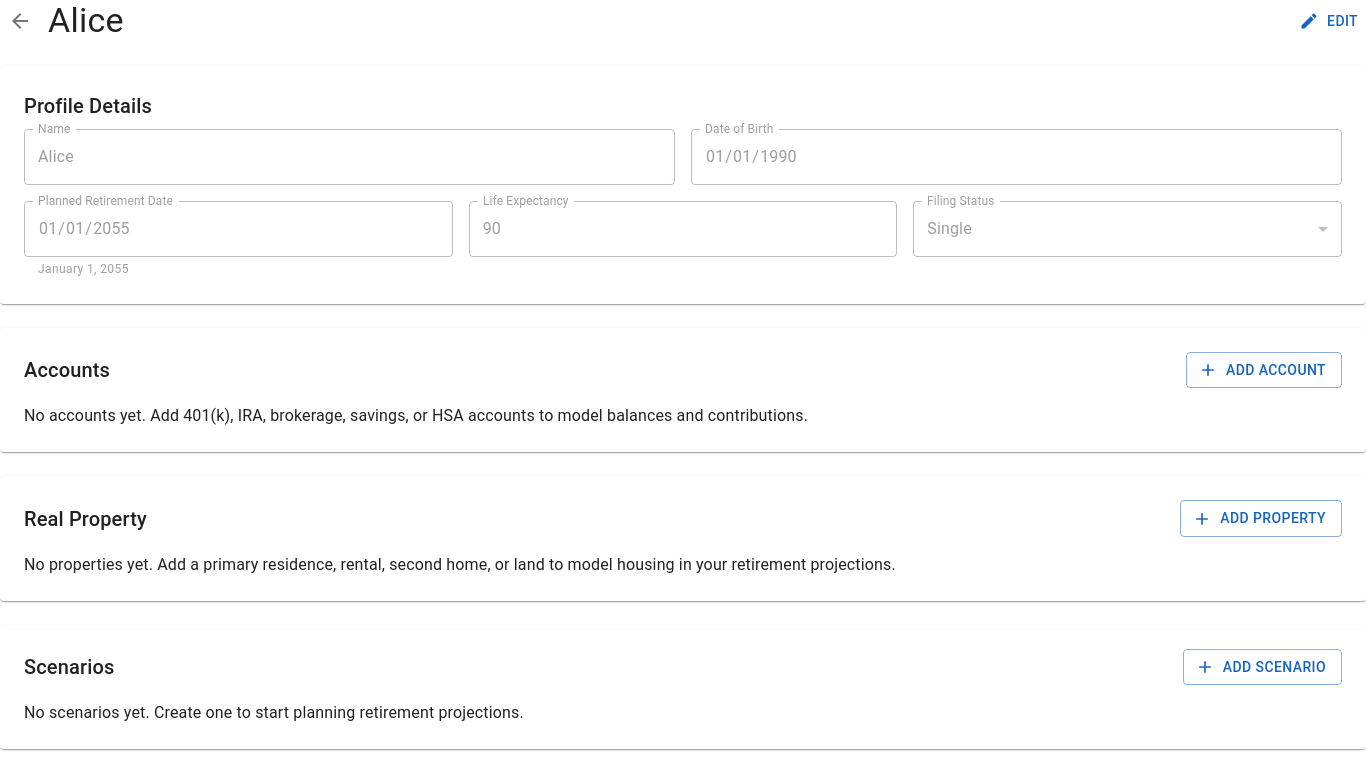
Test case: ProfileDetailPage › shows em-dash for Principal and Interest when there is no mortgage
This screenshot has width=1366, height=768.
What coordinates should you click on to do the following:
click the button "Add Property"
I would click on:
 (1261, 519)
Its box is left=1180, top=500, right=1342, bottom=537.
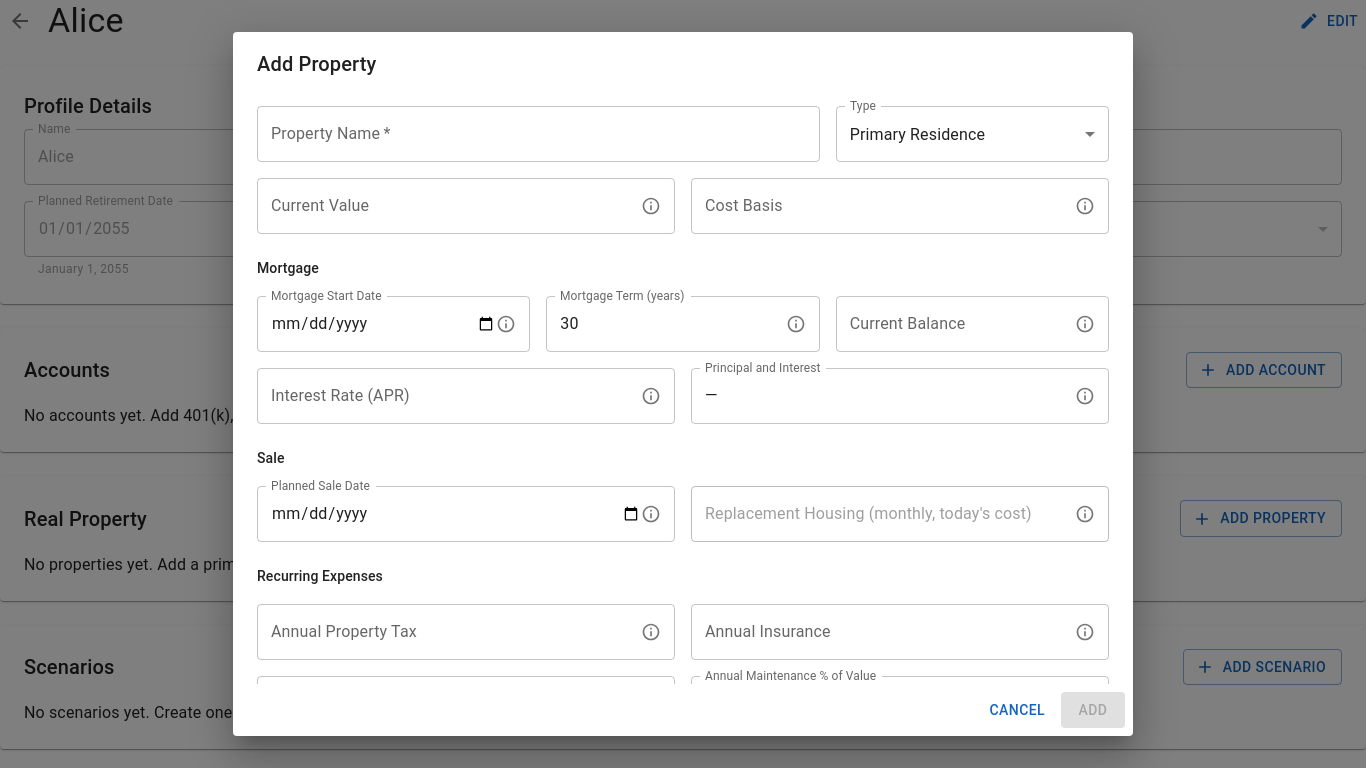
Check: the field labelled "Principal and Interest" holds "—", box left=691, top=368, right=1075, bottom=424
